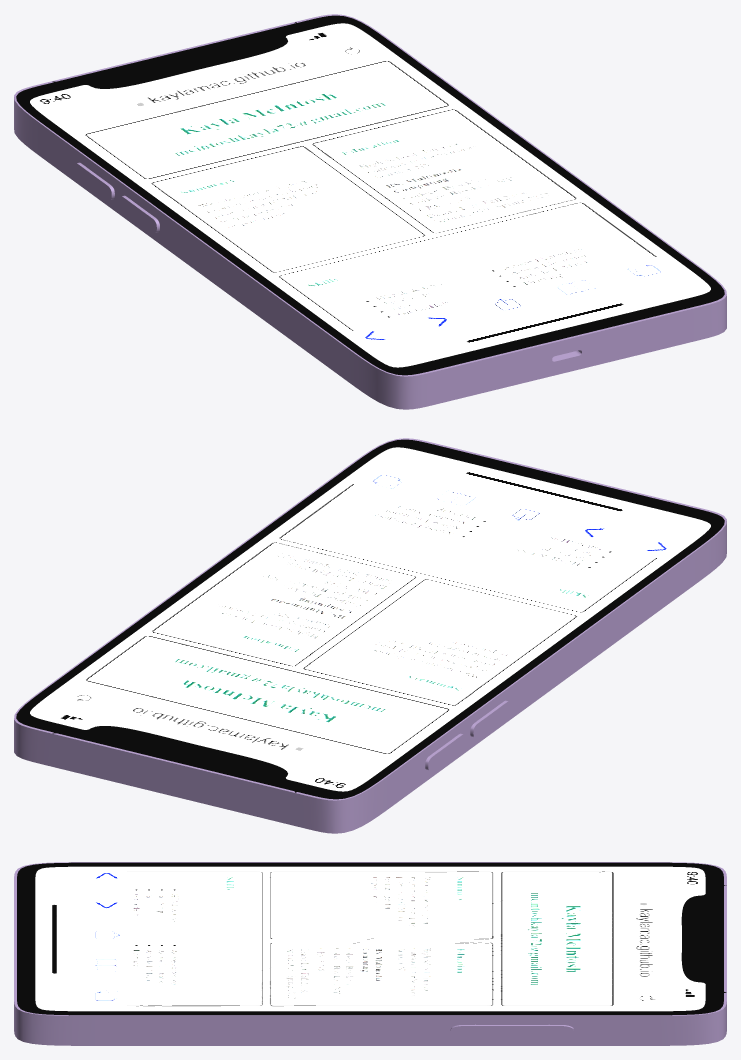
Rendered from resPhone.gltf.
The picture shows the model from 3 angles, top to bottom: view 1: azimuth 30°, elevation 25°; view 2: azimuth 150°, elevation 25°; view 3: azimuth 270°, elevation 25°; orthographic projection. The views are drawn at different scales.
Parts seen in each view (by area): view 1: screen, phoneBase, front, volumeButtons; view 2: screen, phoneBase, front, volumeButtons; view 3: screen, phoneBase, front, powerButton.
Part boxes in pixels (<box>): screen: <box>30,23,710,367</box>; phoneBase: <box>14,14,726,409</box>; front: <box>16,15,724,375</box>; volumeButtons: <box>74,162,159,232</box>; screen: <box>30,447,710,791</box>; phoneBase: <box>14,438,726,833</box>; front: <box>16,439,724,799</box>; volumeButtons: <box>425,700,510,770</box>; screen: <box>35,866,705,1011</box>; phoneBase: <box>14,862,726,1045</box>; front: <box>17,862,726,1015</box>; powerButton: <box>450,1024,573,1037</box>.
Bounding box in the file's own units: 2.24 × 0.2293 × 4.31.
8 materials, 1 textured.
